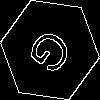G: (25, 25, 82, 84)
